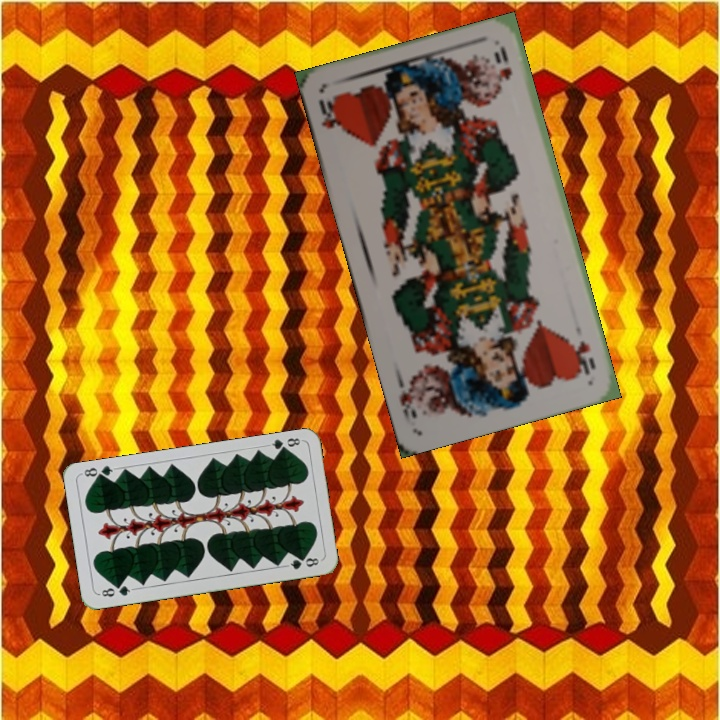G8: (264, 434, 302, 455), (95, 581, 136, 600)
HO: (315, 93, 346, 135), (570, 337, 598, 377)
